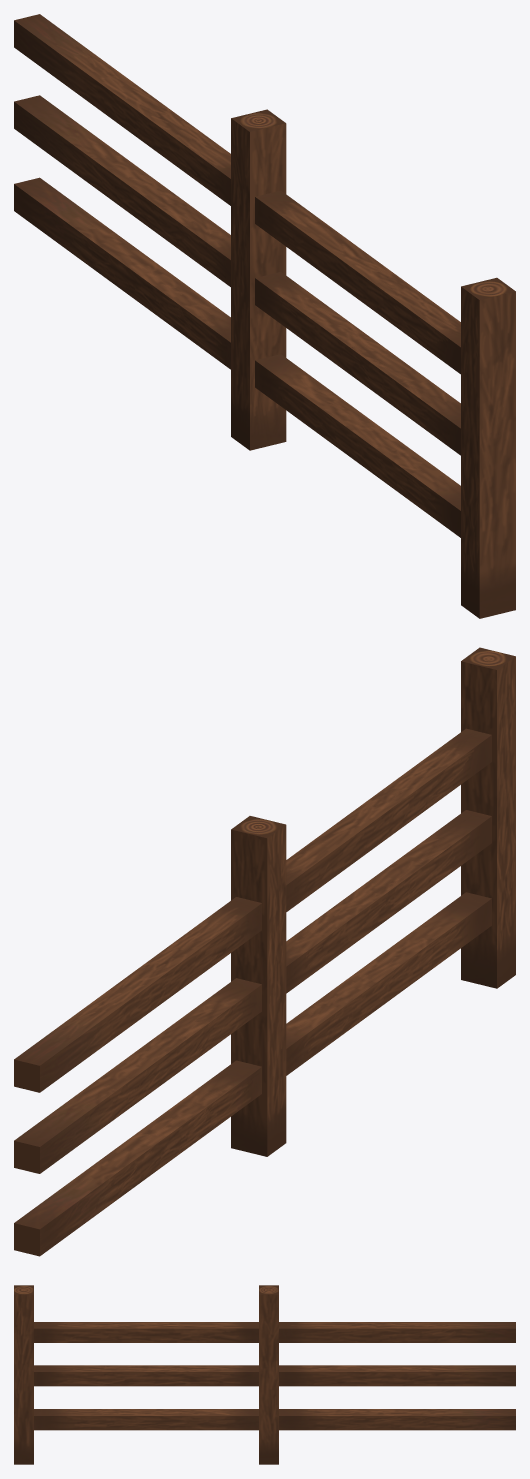
Rendered from wooden_fence_continuous.fbx.
3 renders of one model, top to bottom at view 1: azimuth 30°, elevation 25°; view 2: azimuth 150°, elevation 25°; view 3: azimuth 270°, elevation 25°, orthographic. The views are drawn at different scales.
Parts seen in each view (by area): view 1: Cube.001; view 2: Cube.001; view 3: Cube.001.
Part boxes in pixels (x1=…): Cube.001: x1=14, y1=14, x2=515, y2=618; Cube.001: x1=14, y1=647, x2=515, y2=1256; Cube.001: x1=14, y1=1285, x2=515, y2=1464.
Bounding box in the file's own units: 18.2 × 153 × 410.
